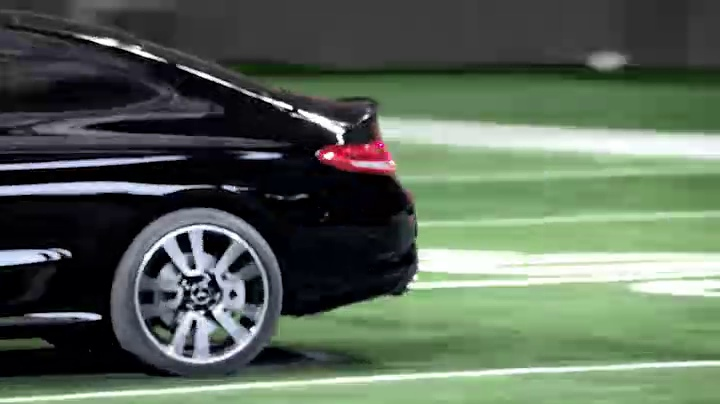amg: (1, 2, 417, 379)
